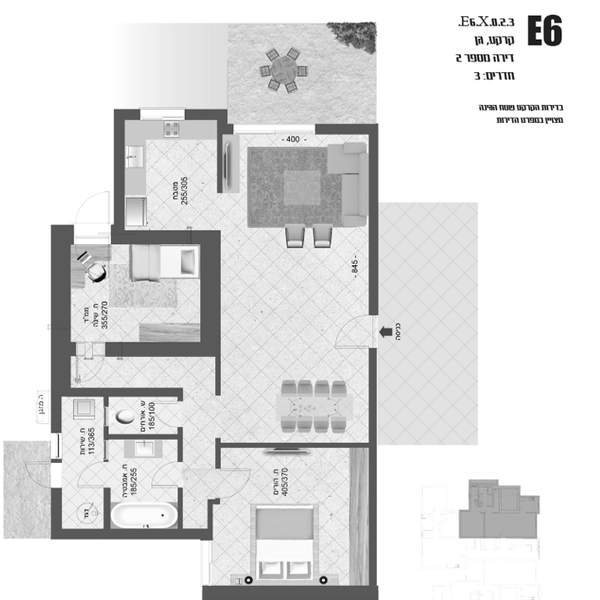door: (69, 187, 118, 231), (329, 314, 372, 352), (217, 464, 257, 503), (147, 459, 187, 488), (75, 464, 109, 486)
room: (210, 115, 388, 448), (204, 428, 383, 600), (42, 393, 218, 537), (46, 218, 223, 360), (108, 104, 231, 245)
wall: (47, 224, 71, 396), (193, 227, 224, 355), (368, 352, 381, 600), (107, 227, 224, 254), (367, 121, 383, 314), (46, 528, 219, 545), (200, 585, 383, 600), (112, 107, 131, 236), (104, 336, 221, 355), (214, 438, 377, 451), (66, 389, 186, 405), (46, 483, 67, 542), (98, 429, 179, 442), (315, 123, 382, 138), (214, 114, 226, 193), (169, 484, 189, 527), (207, 496, 225, 541), (97, 485, 116, 525), (183, 109, 229, 124), (214, 352, 225, 396)
window: (230, 116, 319, 138), (137, 105, 186, 128)
